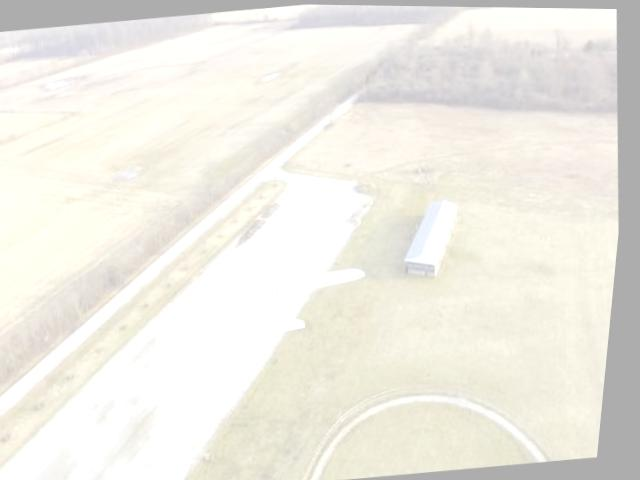uav: (172, 241, 388, 352)
